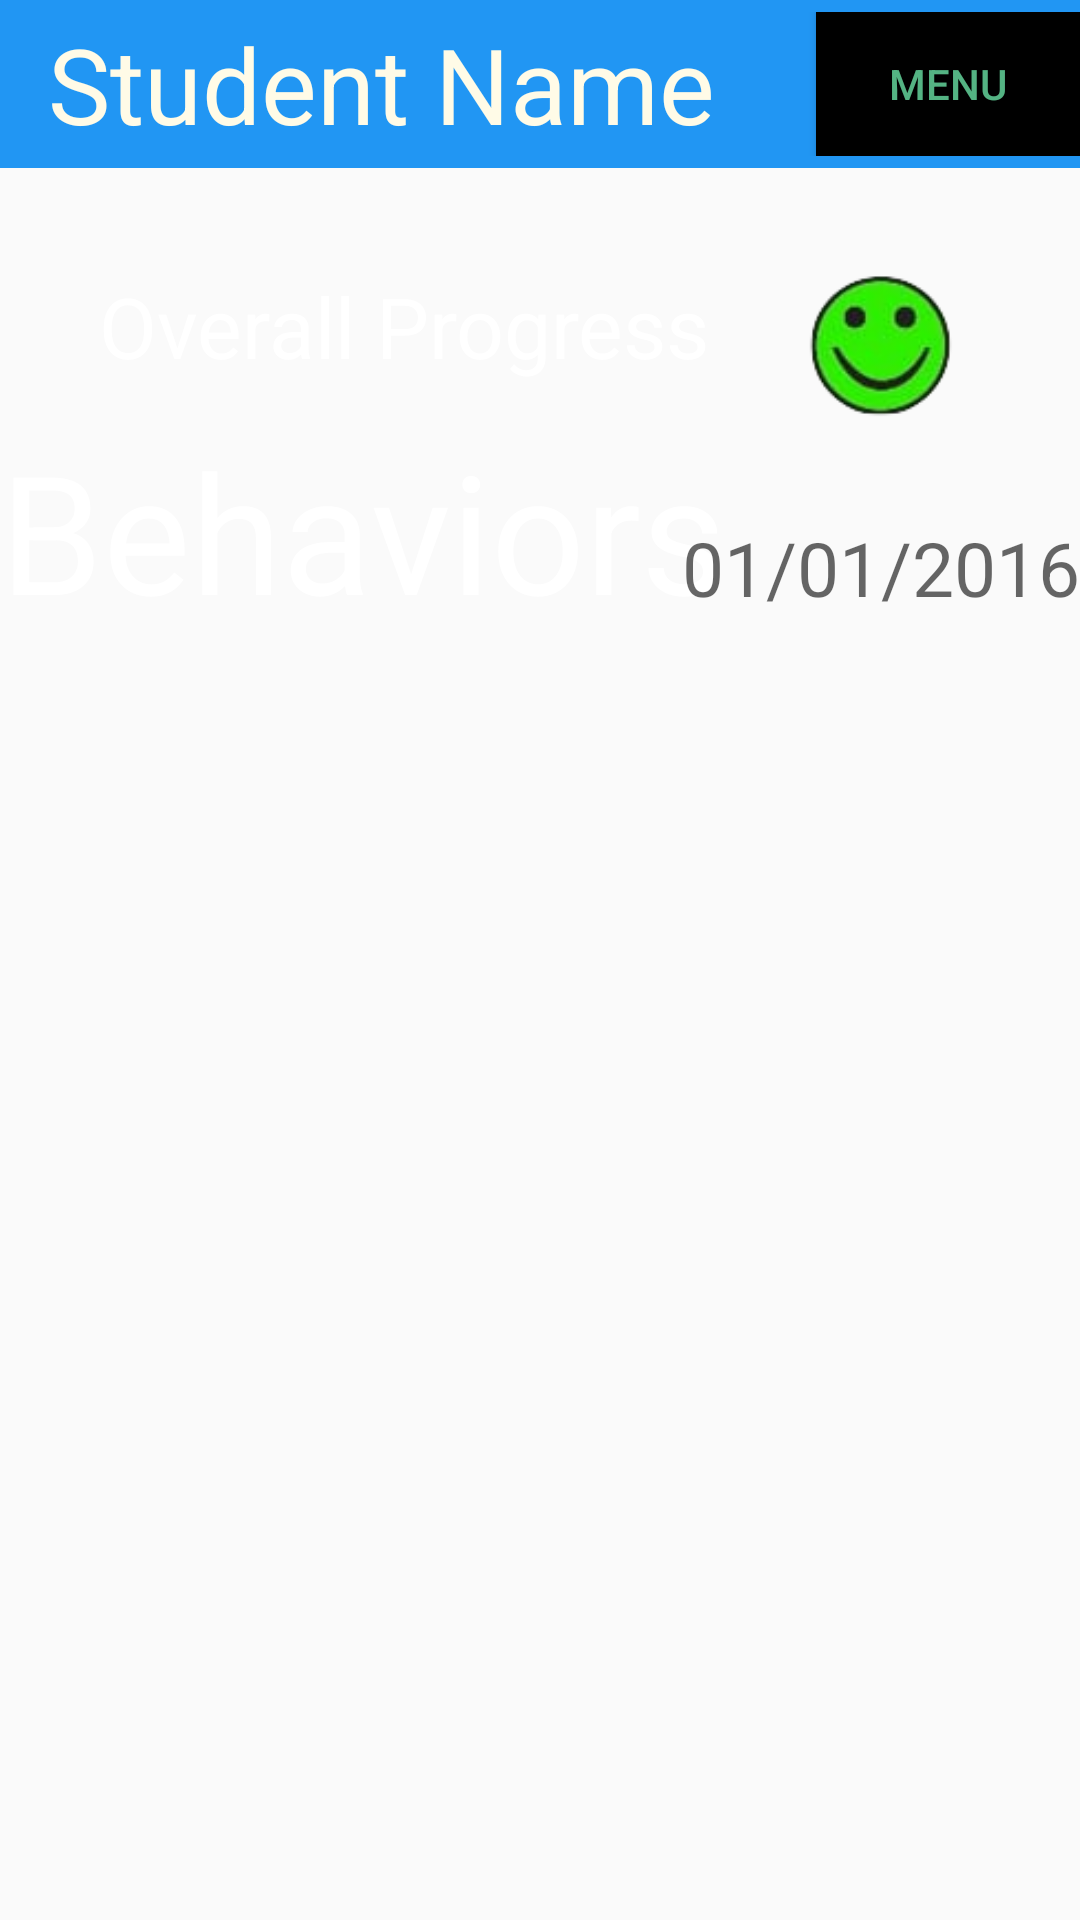

Screen size 1080×1920. Icon name, then its center in pixels as (x,y):
smile: (880,345)
